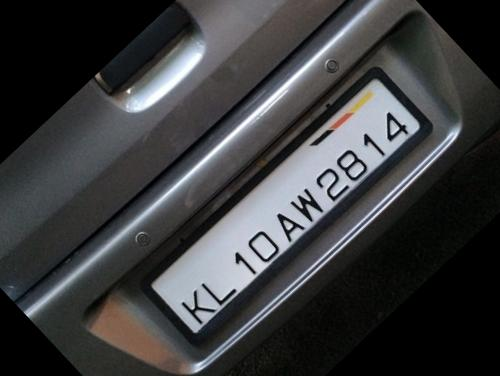plate: (145, 57, 448, 349)
